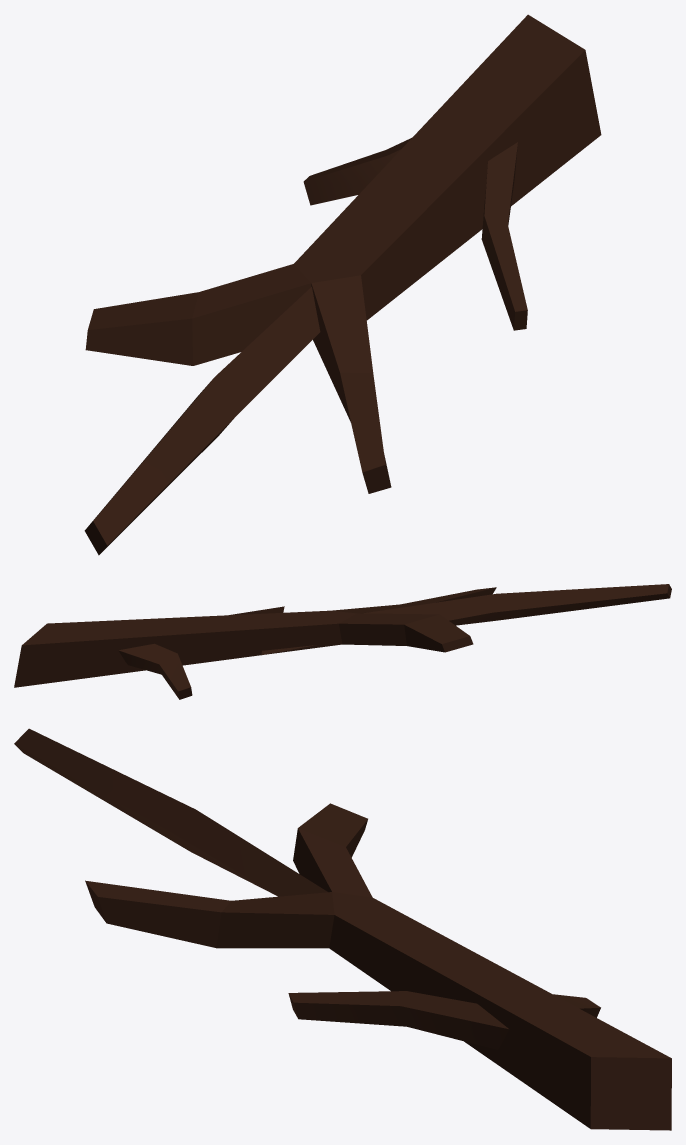
The model's file is platf_branch2.FBX.
The picture shows the model from 3 angles, top to bottom: view 1: azimuth 30°, elevation 25°; view 2: azimuth 150°, elevation 25°; view 3: azimuth 270°, elevation 25°; orthographic projection. The views are drawn at different scales.
Visible parts, largest first — view 1: Object018; view 2: Object018; view 3: Object018.
Part boxes in pixels (x1,y1,x2,y2): Object018: (84, 14, 601, 555); Object018: (14, 584, 671, 699); Object018: (14, 728, 671, 1130).
Size of the model in its own units: 27.24 by 3.33 by 23.42.
